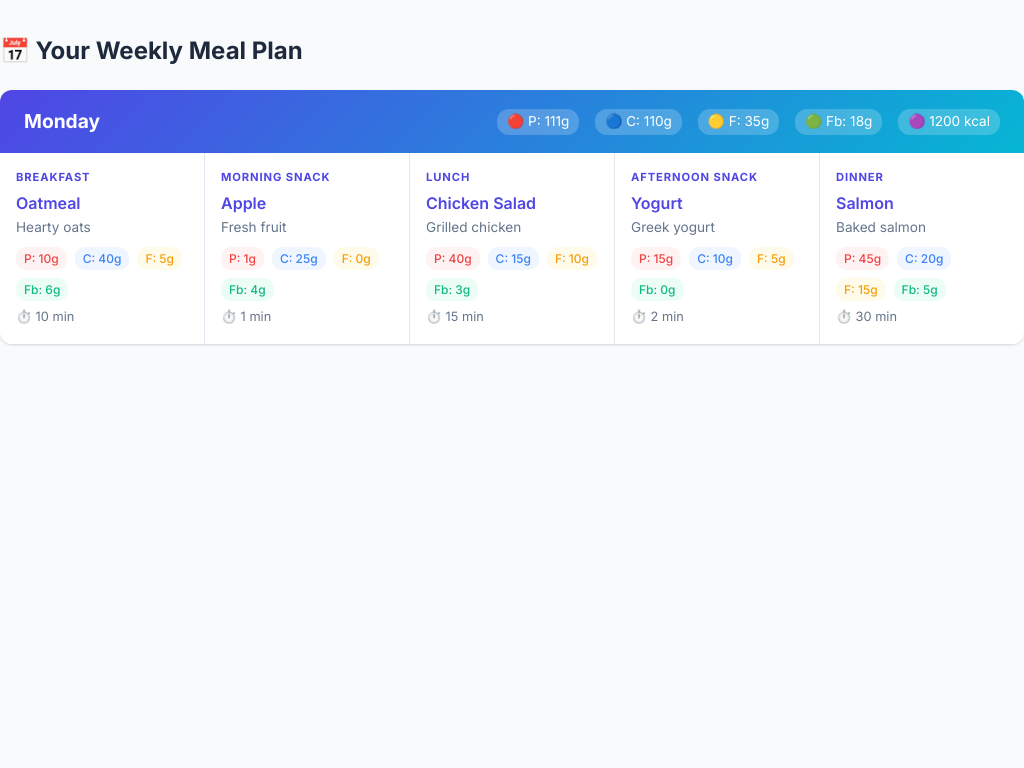
MealPlanDisplay › opens recipe modal with loading state when meal is clicked
The image size is (1024, 768).
Click the button "Oatmeal": (48, 203) [16,193,80,213]
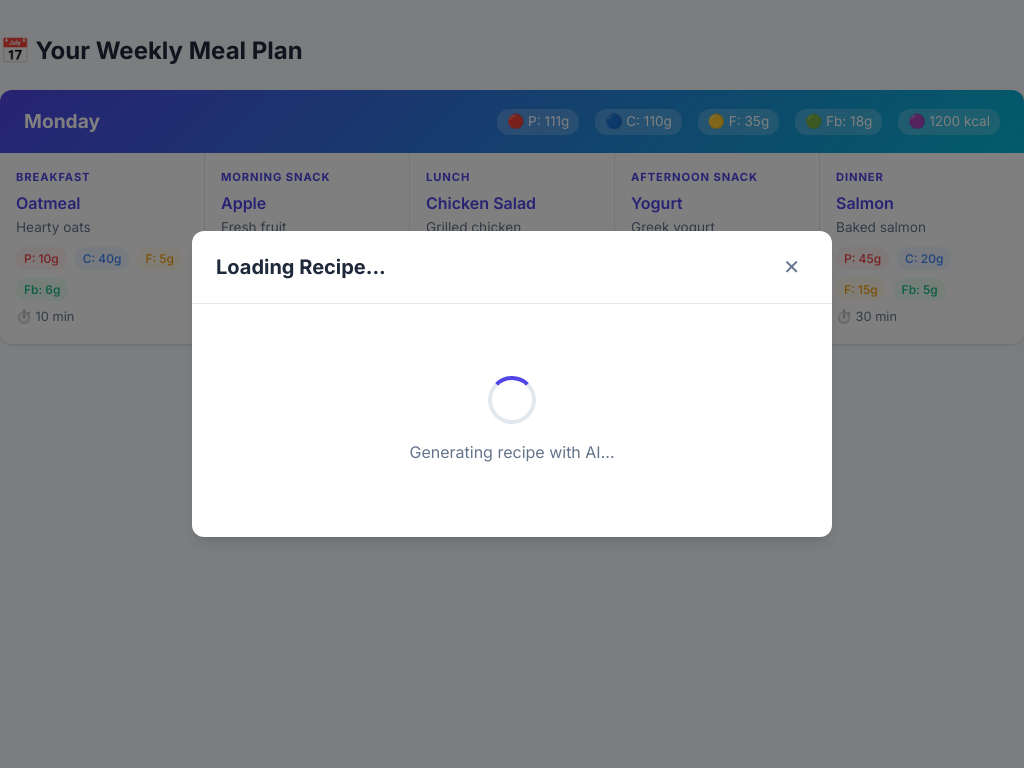
Result: the heading "Loading Recipe..." is shown at [216,251,386,283]
Result: the text "Generating recipe with AI..." is shown at [410,440,614,465]
